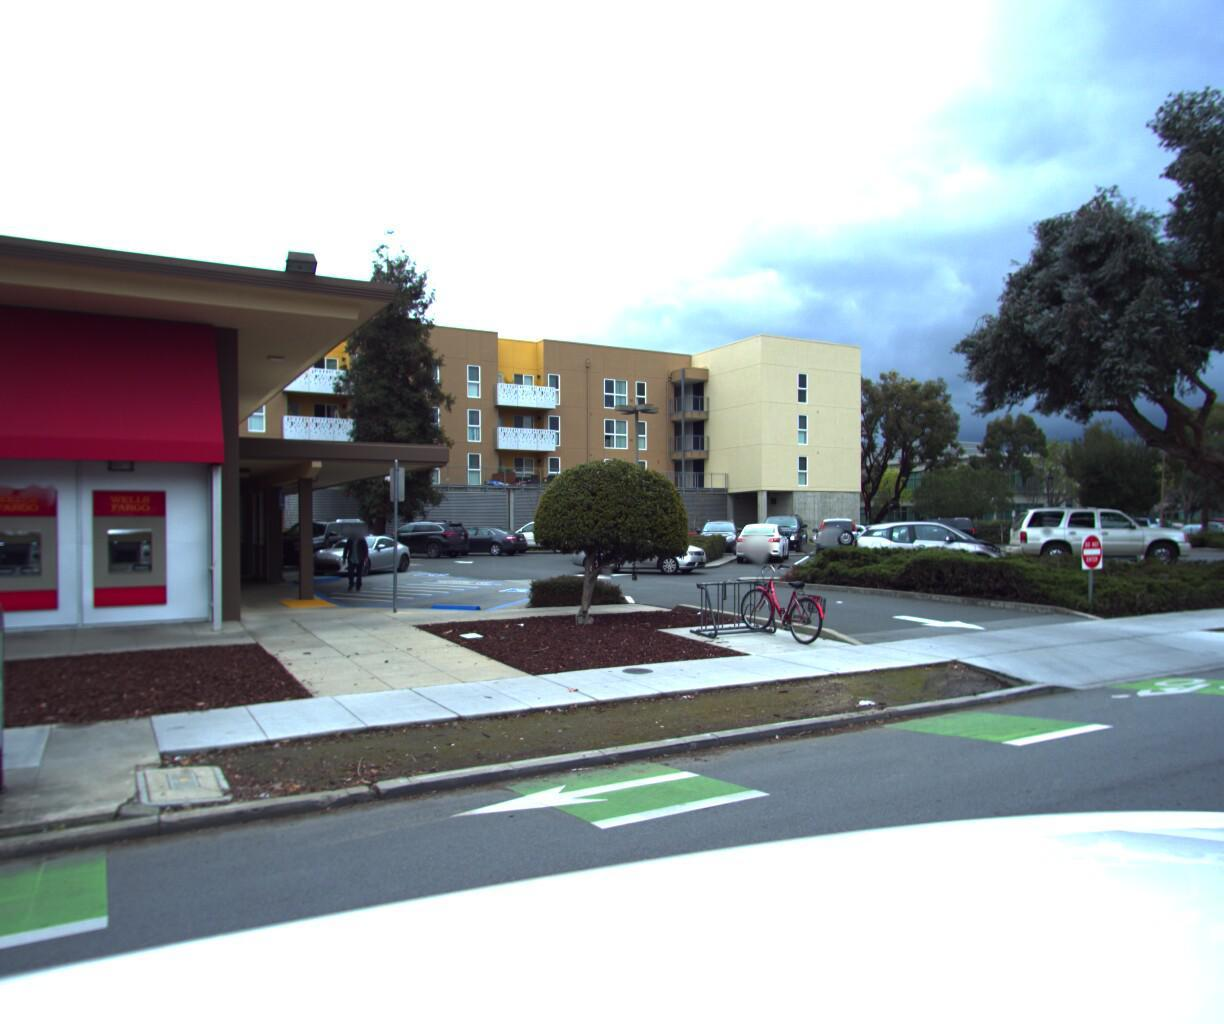bicycle: (727, 559, 843, 643)
car: (1002, 503, 1209, 573), (848, 515, 1022, 577)
